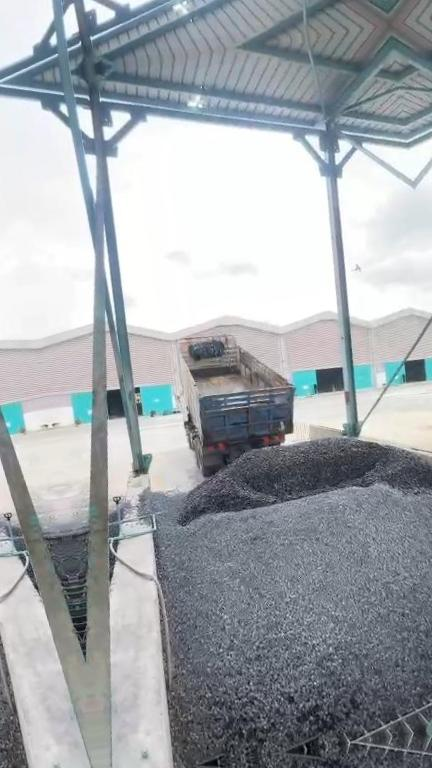gravel: (135, 438, 432, 768), (66, 524, 88, 583)
